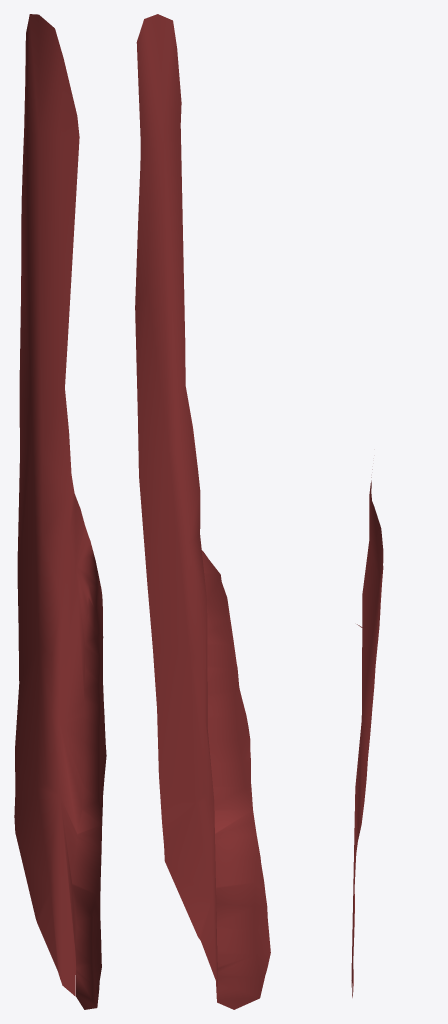
File: flexor-hallucis-longus-ol.glb
3 views of the same model, side by side, from view 1: azimuth 90°, elevation 25°; view 2: azimuth 150°, elevation 25°; view 3: azimuth 330°, elevation 25° (orthographic). The views are drawn at different scales.
Visible parts, largest first — view 1: Flexor hallucis longus.ol; view 2: Flexor hallucis longus.ol; view 3: Flexor hallucis longus.ol.
Boxes of the visible parts, x1=… form: Flexor hallucis longus.ol: x1=14, y1=14, x2=106, y2=1009; Flexor hallucis longus.ol: x1=135, y1=14, x2=270, y2=1009; Flexor hallucis longus.ol: x1=351, y1=469, x2=383, y2=997.
Bounding box in the file's own units: 0.0174 × 0.175 × 0.0151.
